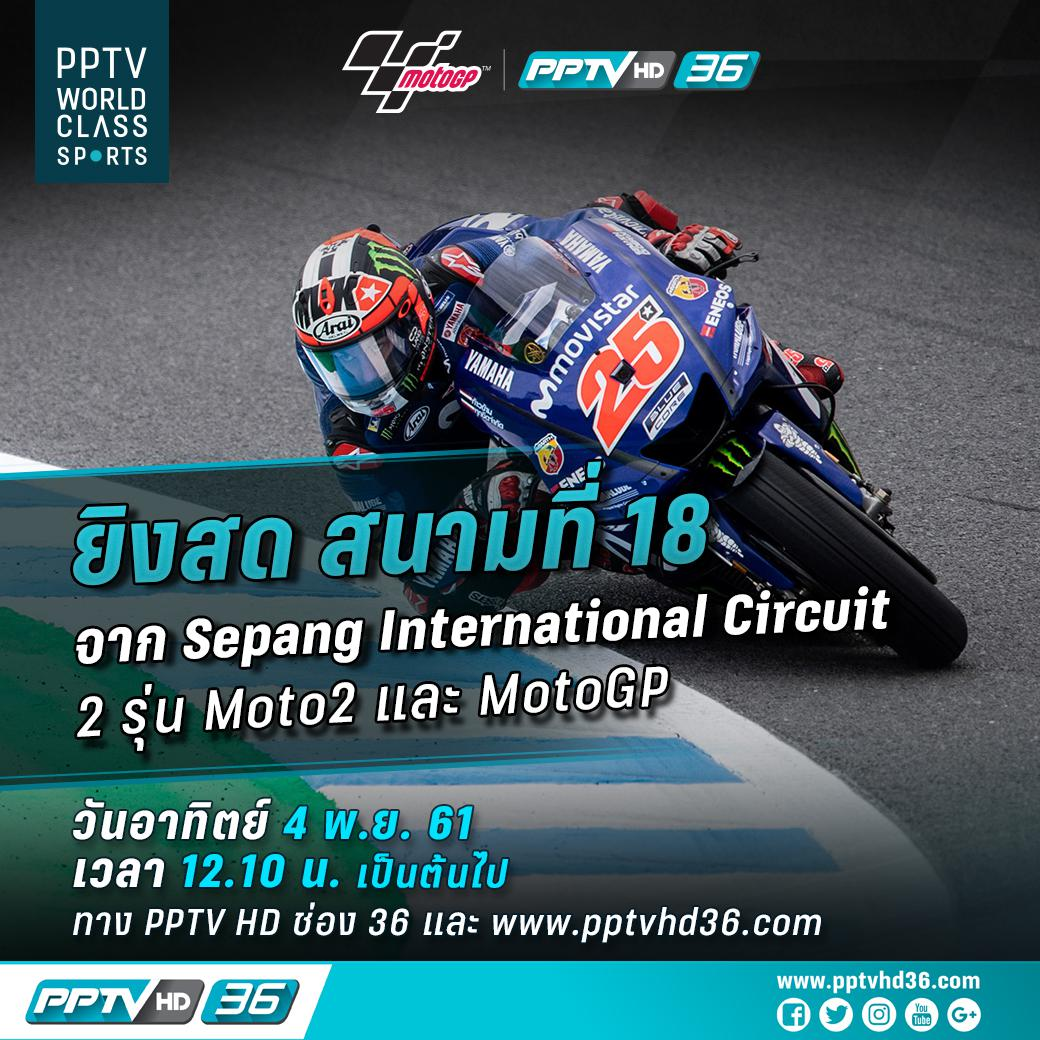helmet: (270, 194, 447, 418)
